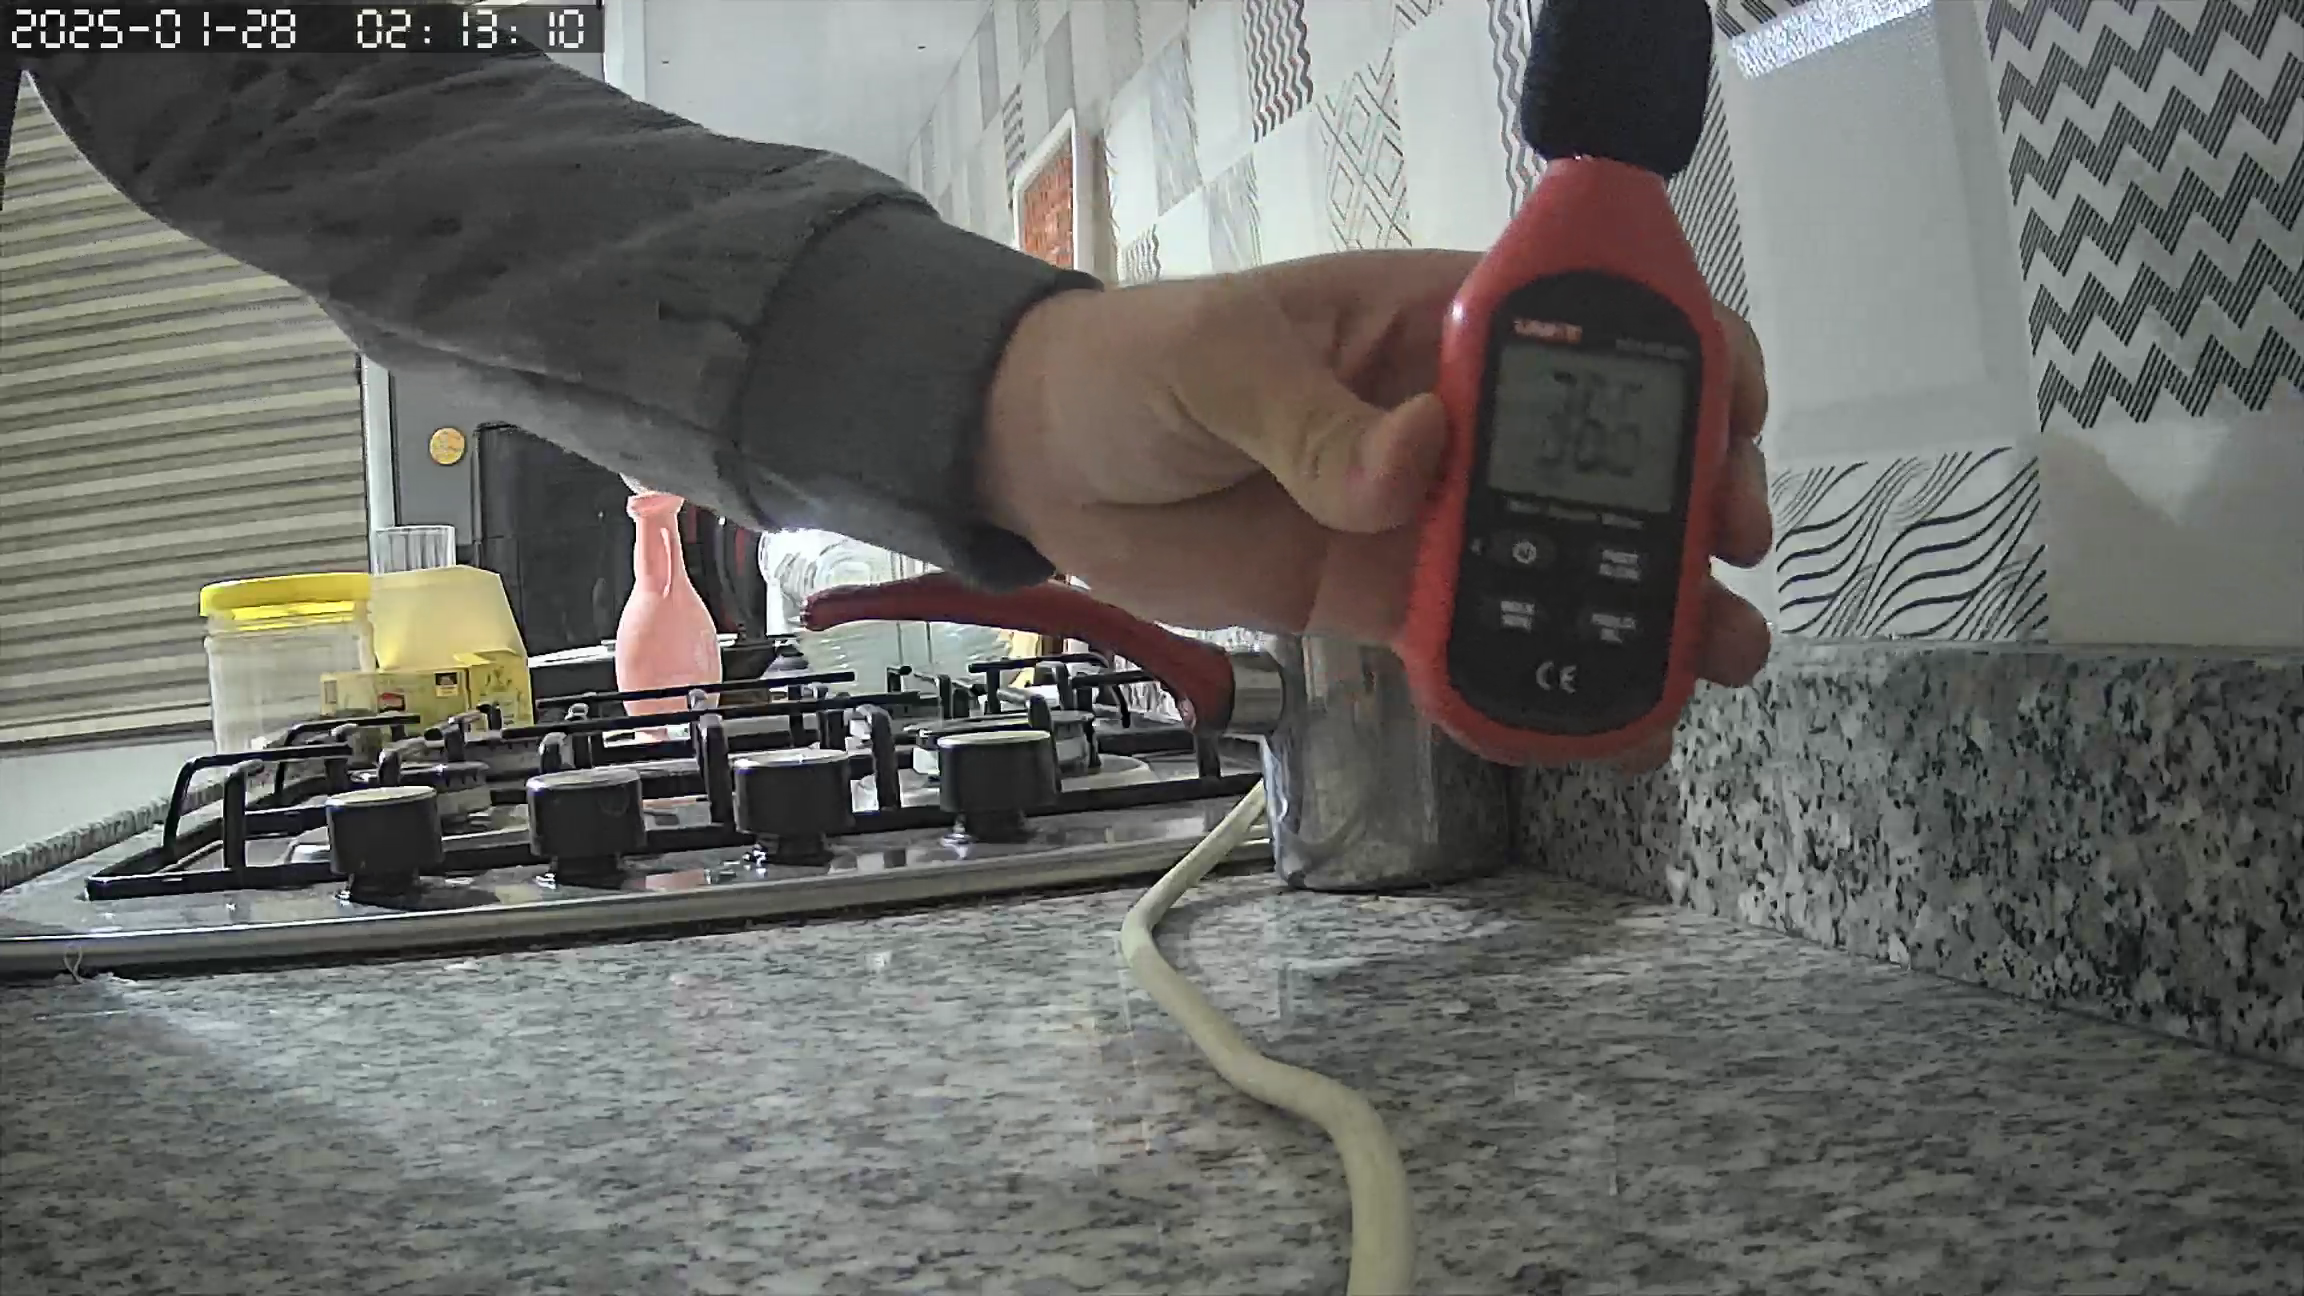screen: (1492, 342, 1685, 514)
